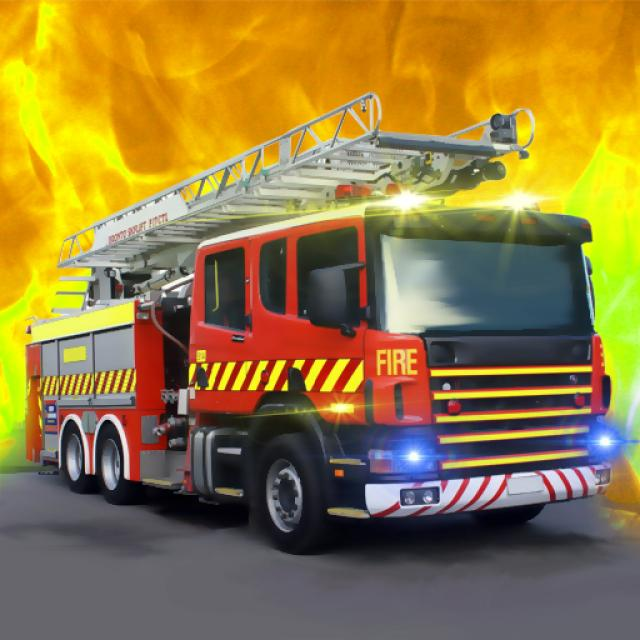Fire Truck: (15, 145, 640, 539)
